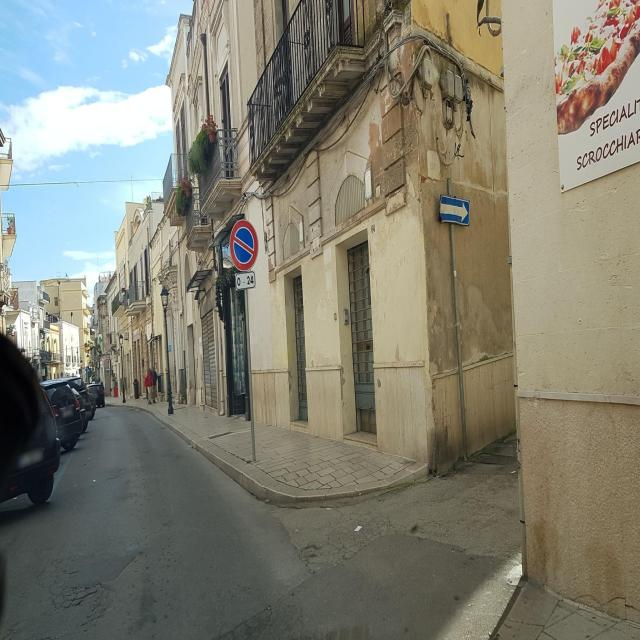forb_stopping: (230, 219, 259, 272)
